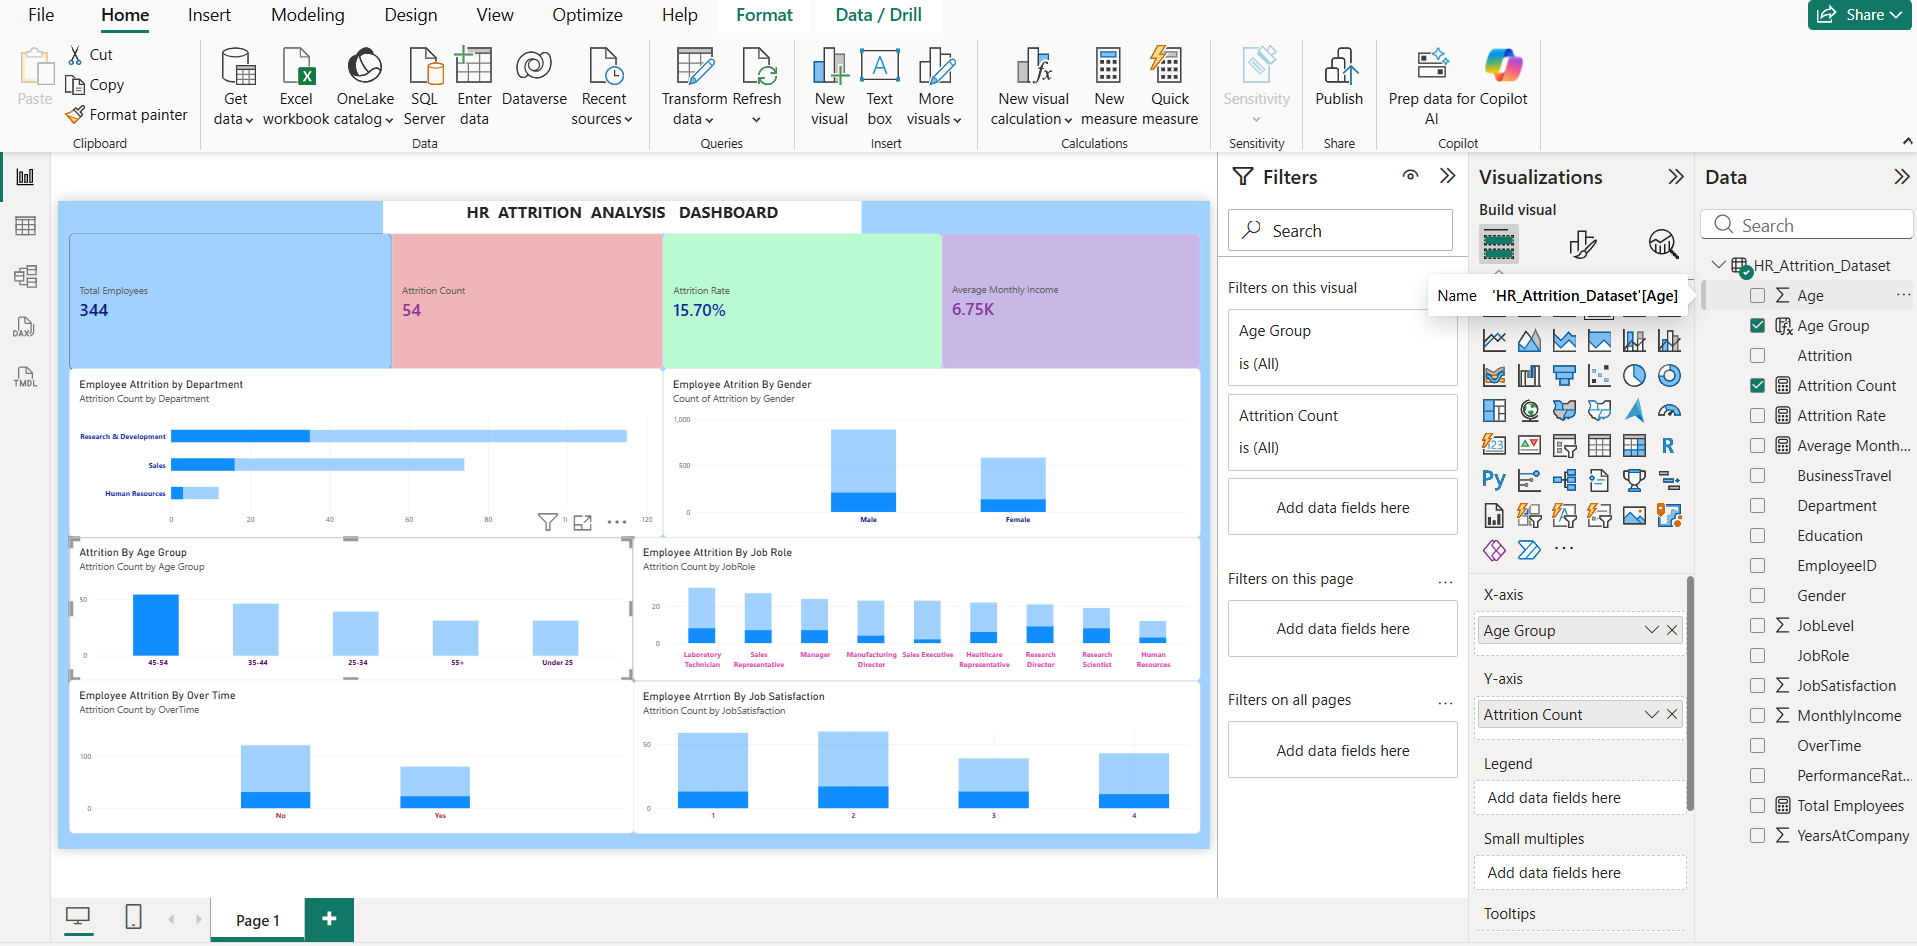

The page's visual inventory and layout, read from the dashboard file:
{"tool":"powerbi","page":{"name":"Page 1","canvas":[1920,1080],"ordinal":0},"visuals":[{"type":"cardVisual","fields":{"Data":["HR_Attrition_Dataset.Total Employees"]},"box":[18.8,54.2,537.5,227.1],"z":0},{"type":"cardVisual","fields":{"Data":["HR_Attrition_Dataset.Attrition Count"]},"box":[555.7,53.5,452.8,226.4],"z":1000},{"type":"cardVisual","fields":{"Data":["HR_Attrition_Dataset.Attrition Rate"]},"box":[1008.6,53.5,465.2,226.4],"z":2000},{"type":"cardVisual","fields":{"Data":["HR_Attrition_Dataset.Average Monthly Income"]},"box":[1472.9,54.2,431.2,225],"z":3000},{"type":"clusteredBarChart","title":"Employee Attrition by Department","fields":{"Category":["HR_Attrition_Dataset.Department"],"Y":["HR_Attrition_Dataset.Attrition Count"]},"box":[18.8,279.2,989.6,281.2],"z":4000},{"type":"clusteredColumnChart","title":"Employee Atrition By Gender","fields":{"Category":["HR_Attrition_Dataset.Gender"],"Y":["CountNonNull(HR_Attrition_Dataset.Attrition)"]},"box":[1008.3,279.2,895.8,281.2],"z":5000},{"type":"clusteredColumnChart","title":"Attrition By Age Group","fields":{"Category":["HR_Attrition_Dataset.Age Group"],"Y":["HR_Attrition_Dataset.Attrition Count"]},"box":[18.8,560.4,939.6,239.6],"z":6000},{"type":"clusteredColumnChart","title":"Employee Attrition By Job Role","fields":{"Category":["HR_Attrition_Dataset.JobRole"],"Y":["HR_Attrition_Dataset.Attrition Count"]},"box":[958.3,560.4,945.8,239.6],"z":7000},{"type":"clusteredColumnChart","title":"Employee Attrition By Over Time","fields":{"Category":["HR_Attrition_Dataset.OverTime"],"Y":["HR_Attrition_Dataset.Attrition Count"]},"box":[18.8,797.9,941.7,256.2],"z":8000},{"type":"clusteredColumnChart","title":"Employee Atrrtion By Job Satisfaction","fields":{"Category":["HR_Attrition_Dataset.JobSatisfaction"],"Y":["HR_Attrition_Dataset.Attrition Count"]},"box":[958.3,800,945.8,254.2],"z":9000},{"type":"textbox","box":[541.7,0,797.9,54.2],"z":10000}]}

Visuals, with their boxes on the page's 1920x1080 design canvas (x1, y1, x2, y2). These are canvas units, not pixel positions in the 1917x946 screenshot, which may show the page scaled, cropped or inside an application window:
cardVisual - HR_Attrition_Dataset.Total Employees: locate(19, 54, 556, 281)
cardVisual - HR_Attrition_Dataset.Attrition Count: locate(556, 54, 1008, 280)
cardVisual - HR_Attrition_Dataset.Attrition Rate: locate(1009, 54, 1474, 280)
cardVisual - HR_Attrition_Dataset.Average Monthly Income: locate(1473, 54, 1904, 279)
"Employee Attrition by Department" clusteredBarChart: locate(19, 279, 1008, 560)
"Employee Atrition By Gender" clusteredColumnChart: locate(1008, 279, 1904, 560)
"Attrition By Age Group" clusteredColumnChart: locate(19, 560, 958, 800)
"Employee Attrition By Job Role" clusteredColumnChart: locate(958, 560, 1904, 800)
"Employee Attrition By Over Time" clusteredColumnChart: locate(19, 798, 960, 1054)
"Employee Atrrtion By Job Satisfaction" clusteredColumnChart: locate(958, 800, 1904, 1054)
textbox: locate(542, 0, 1340, 54)
